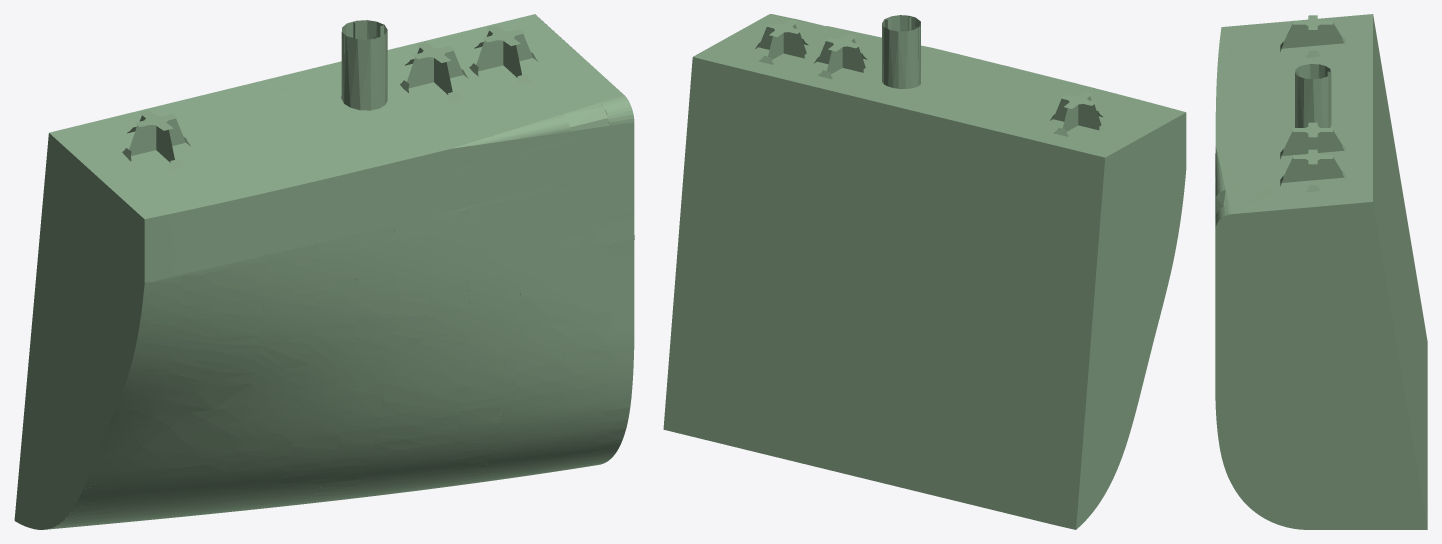
The model's file is NO_5_WING_CARGO_OIL_TK_SB.glb.
3 views of the same model, side by side, from view 1: azimuth 30°, elevation 25°; view 2: azimuth 150°, elevation 25°; view 3: azimuth 270°, elevation 25° (orthographic). The views are drawn at different scales.
Parts seen in each view (by area): view 1: PL_OuterShellxNo5SideTankS_020001-18.5_NVA32_1993, PL_CraneSeatxNo5SideTankS_010001-40_NVD36_2014, PL_OuterShellxNo5SideTankS_036002-18_NVA32_1993, PL_OuterShellxNo5SideTankS_006010-17.5_NVA32_1993, PL_OuterShellxNo5SideTankS_022001-18.5_NVA32_1993, PL_OuterShellxNo5SideTankS_025001-18.5_NVA32_1993, PL_OuterShellxNo5SideTankS_024002-18.5_NVA32_1993, PL_OuterShellxNo5SideTankS_003004-17.5_NVA32_1993, PL_OuterShellxNo5SideTankS_032004-18_NVA32_1993, PL_OuterShellxNo5SideTankS_007004-17.5_NVA32_1993, PL_OuterShellxNo5SideTankS_031002-18_NVA32_1993, PL_OuterShellxNo5SideTankS_006005-17.5_NVA32_1993 (+138 smaller); view 2: PL_LBHDxNo6CenterTankS_029004-17_NVA32_1993, PL_LBHDxNo6CenterTankS_036001-19.5_NVA36_1993, PL_LBHDxNo6CenterTankS_020001-17.5_NVA32_1993, PL_LBHDxNo6CenterTankS_037004-20.5_NVA32_1993, PL_LBHDxNo6CenterTankS_027009-17_NVA32_1993, PL_LBHDxNo6CenterTankS_007004-15_NVA32_1993, PL_LBHDxNo6CenterTankS_036005-19.5_NVA36_1993, PL_LBHDxNo6CenterTankS_009004-15_NVA32_1993, PL_LBHDxNo6CenterTankS_026006-17.5_NVA36_1993, PL_LBHDxNo6CenterTankS_026004-17.5_NVA36_1993, PL_CraneSeatxNo5SideTankS_010001-40_NVD36_2014, PL_LBHDxNo6CenterTankS_012010-16_NVA32_1993 (+115 smaller); view 3: PL_SideTransBHDxBHD60S_001002-19.5_NVA32_1993, PL_SideTransBHDxBHD60S_005001-18.5_NVA32_1993, PL_SideTransBHDxBHD60S_003002-18.5_NVA32_1993, PL_SideTransBHDxBHD60S_002001-19.5_NVA32_1993, PL_SideTransBHDxBHD60S_007002-17_NVA32_1993, PL_SideTransBHDxBHD60S_017002-13.5_NVA_1993, PL_SideTransBHDxBHD60S_013001-14.5_NVA32_1993, PL_SideTransBHDxBHD60S_019001-13.5_NVA_1993, PL_SideTransBHDxBHD60S_008001-17_NVA32_1993, PL_SideTransBHDxBHD60S_012002-14.5_NVA32_1993, PL_CraneSeatxNo5SideTankS_010001-40_NVD36_2014, PL_SideTransBHDxBHD60S_012001-14.5_NVA32_1993 (+74 smaller).
Boxes of the visible parts, x1,y1,x2,y2 form: PL_OuterShellxNo5SideTankS_020001-18.5_NVA32_1993: (520, 247, 608, 320); PL_CraneSeatxNo5SideTankS_010001-40_NVD36_2014: (341, 20, 387, 110); PL_OuterShellxNo5SideTankS_036002-18_NVA32_1993: (390, 281, 469, 348); PL_OuterShellxNo5SideTankS_006010-17.5_NVA32_1993: (171, 298, 264, 360); PL_OuterShellxNo5SideTankS_022001-18.5_NVA32_1993: (513, 351, 608, 411); PL_OuterShellxNo5SideTankS_025001-18.5_NVA32_1993: (501, 403, 604, 459); PL_OuterShellxNo5SideTankS_024002-18.5_NVA32_1993: (518, 312, 608, 370); PL_OuterShellxNo5SideTankS_003004-17.5_NVA32_1993: (179, 255, 266, 313); PL_OuterShellxNo5SideTankS_032004-18_NVA32_1993: (394, 207, 469, 266); PL_OuterShellxNo5SideTankS_007004-17.5_NVA32_1993: (143, 405, 246, 446); PL_OuterShellxNo5SideTankS_031002-18_NVA32_1993: (381, 368, 465, 417); PL_OuterShellxNo5SideTankS_006005-17.5_NVA32_1993: (259, 287, 316, 344); PL_LBHDxNo6CenterTankS_029004-17_NVA32_1993: (982, 364, 1055, 430); PL_LBHDxNo6CenterTankS_036001-19.5_NVA36_1993: (685, 388, 763, 452); PL_LBHDxNo6CenterTankS_020001-17.5_NVA32_1993: (688, 343, 766, 405); PL_LBHDxNo6CenterTankS_037004-20.5_NVA32_1993: (974, 458, 1047, 522); PL_LBHDxNo6CenterTankS_027009-17_NVA32_1993: (810, 322, 877, 387); PL_LBHDxNo6CenterTankS_007004-15_NVA32_1993: (989, 271, 1062, 333); PL_LBHDxNo6CenterTankS_036005-19.5_NVA36_1993: (803, 417, 870, 478); PL_LBHDxNo6CenterTankS_009004-15_NVA32_1993: (818, 229, 884, 290); PL_LBHDxNo6CenterTankS_026006-17.5_NVA36_1993: (892, 106, 960, 165); PL_LBHDxNo6CenterTankS_026004-17.5_NVA36_1993: (829, 91, 895, 149); PL_CraneSeatxNo5SideTankS_010001-40_NVD36_2014: (882, 15, 920, 88); PL_LBHDxNo6CenterTankS_012010-16_NVA32_1993: (986, 330, 1057, 380); PL_SideTransBHDxBHD60S_001002-19.5_NVA32_1993: (1335, 488, 1427, 529); PL_SideTransBHDxBHD60S_005001-18.5_NVA32_1993: (1220, 449, 1321, 483); PL_SideTransBHDxBHD60S_003002-18.5_NVA32_1993: (1335, 449, 1420, 488); PL_SideTransBHDxBHD60S_002001-19.5_NVA32_1993: (1231, 483, 1321, 529); PL_SideTransBHDxBHD60S_007002-17_NVA32_1993: (1335, 404, 1412, 441); PL_SideTransBHDxBHD60S_017002-13.5_NVA_1993: (1215, 252, 1302, 281); PL_SideTransBHDxBHD60S_013001-14.5_NVA32_1993: (1215, 325, 1280, 363); PL_SideTransBHDxBHD60S_019001-13.5_NVA_1993: (1215, 208, 1302, 240); PL_SideTransBHDxBHD60S_008001-17_NVA32_1993: (1215, 404, 1280, 441); PL_SideTransBHDxBHD60S_012002-14.5_NVA32_1993: (1335, 325, 1399, 363); PL_CraneSeatxNo5SideTankS_010001-40_NVD36_2014: (1295, 64, 1331, 127); PL_SideTransBHDxBHD60S_012001-14.5_NVA32_1993: (1280, 325, 1335, 363).
Size of the model in its own units: 36.68 by 34.37 by 17.51.
